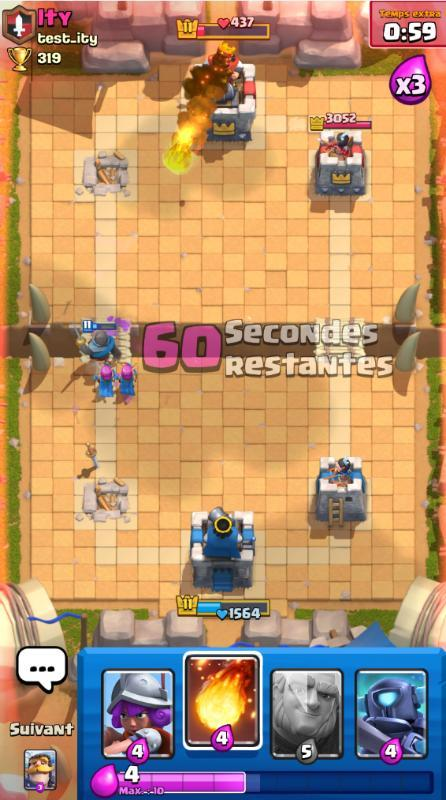archere: (95, 361, 119, 398), (116, 359, 139, 396)
chevalier: (72, 322, 122, 364)
